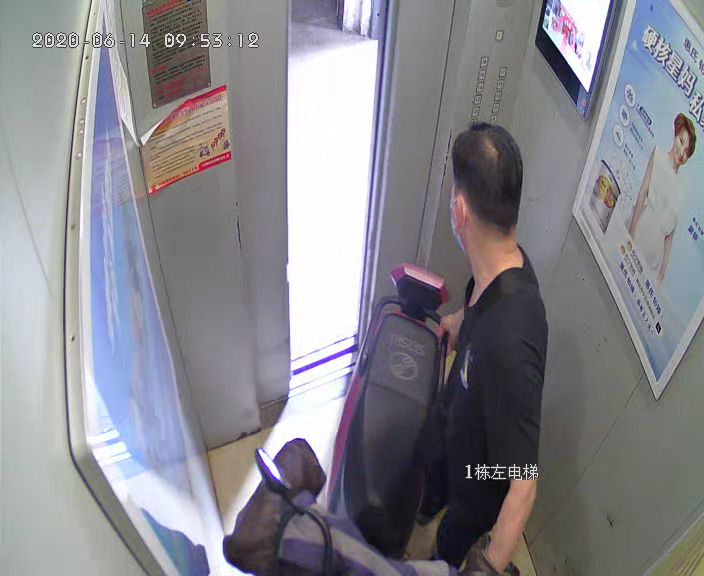Electric-bicycle: (232, 265, 490, 576)
